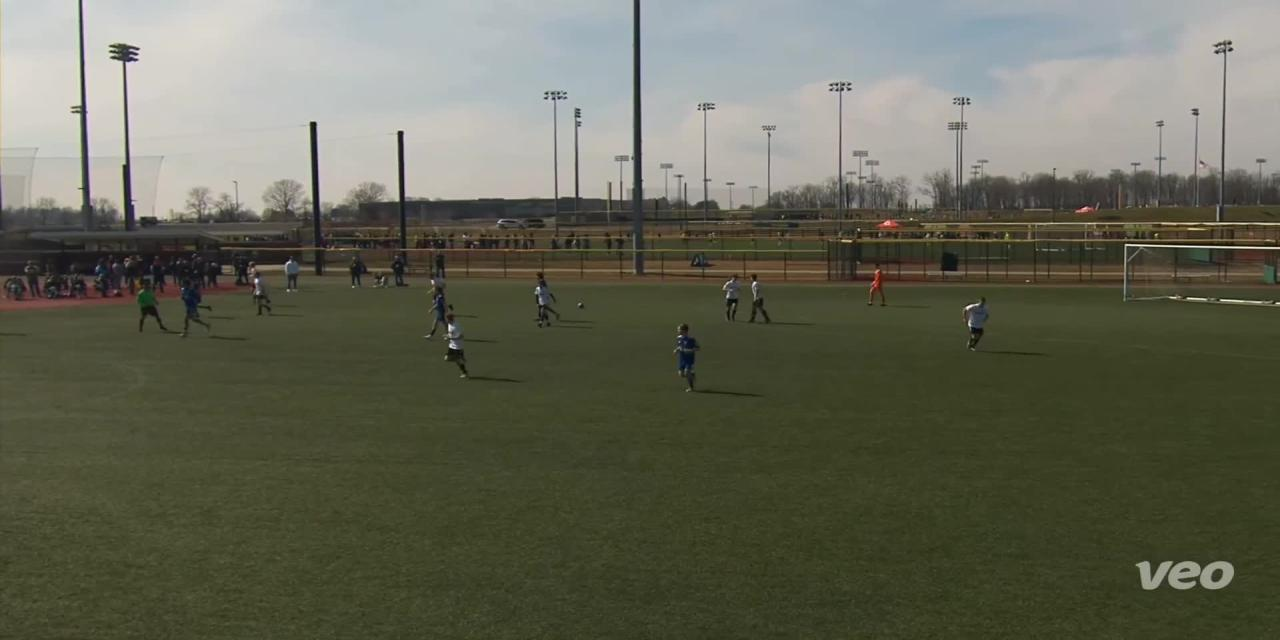goal: (1110, 237, 1280, 326)
sports ball: (572, 300, 588, 310)
